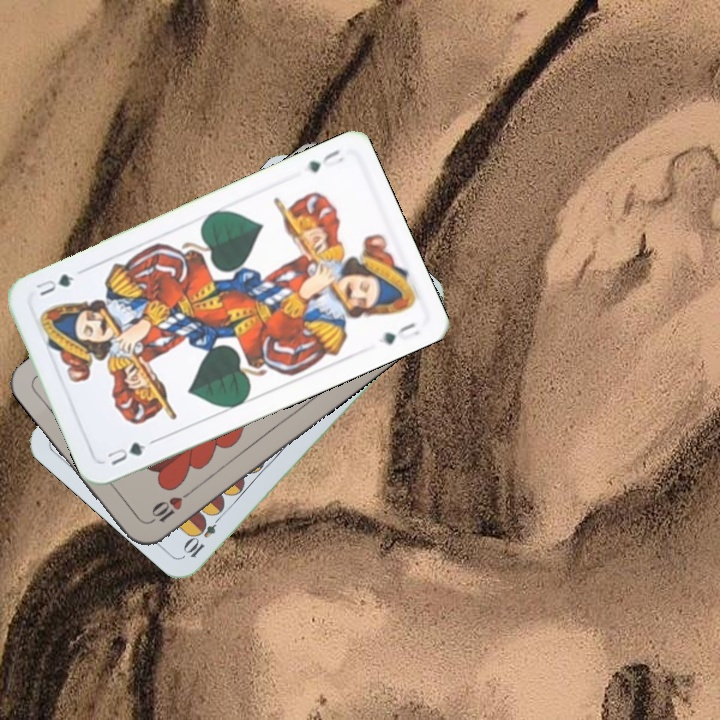E10: (180, 508, 226, 561)
GU: (103, 436, 157, 468), (303, 145, 347, 176)
H10: (144, 486, 196, 527)
